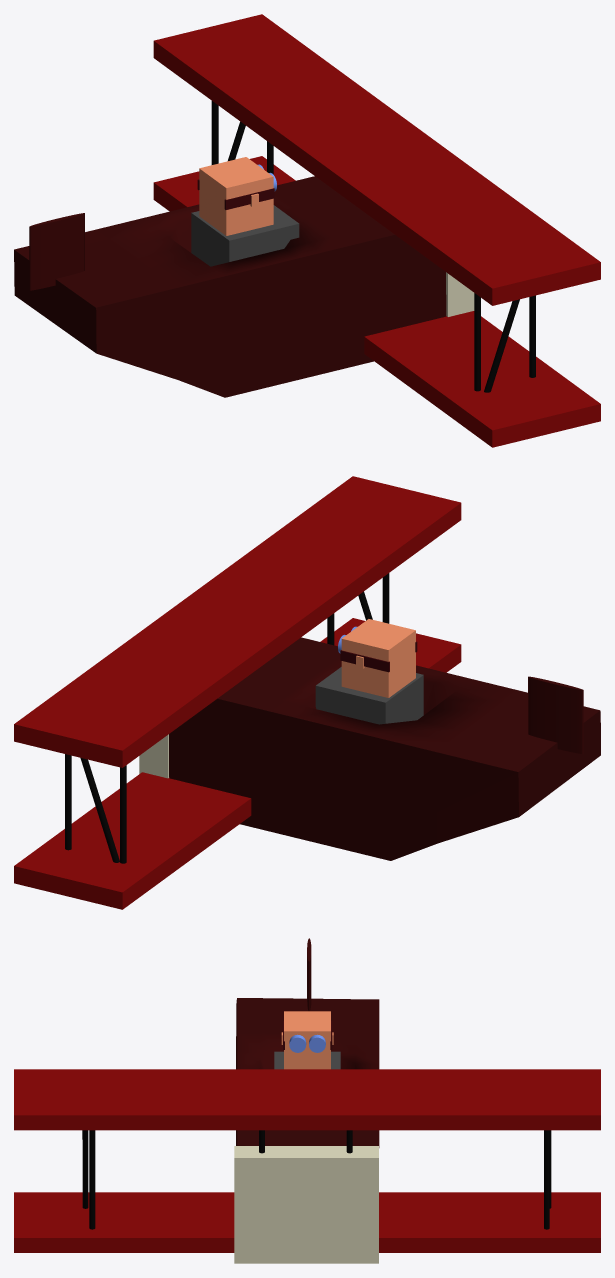
Rendered from plane+pilot.obj.
3 renders of one model, top to bottom at view 1: azimuth 30°, elevation 25°; view 2: azimuth 150°, elevation 25°; view 3: azimuth 270°, elevation 25°, orthographic. The views are drawn at different scales.
Parts seen in each view (by area): view 1: polySurface30; view 2: polySurface30; view 3: polySurface30.
Part boxes in pixels (<box>): polySurface30: <box>14,14,600,447</box>; polySurface30: <box>14,476,600,909</box>; polySurface30: <box>14,938,600,1263</box>.
Bounding box in the file's own units: 6.91 × 3.01 × 10.04.
